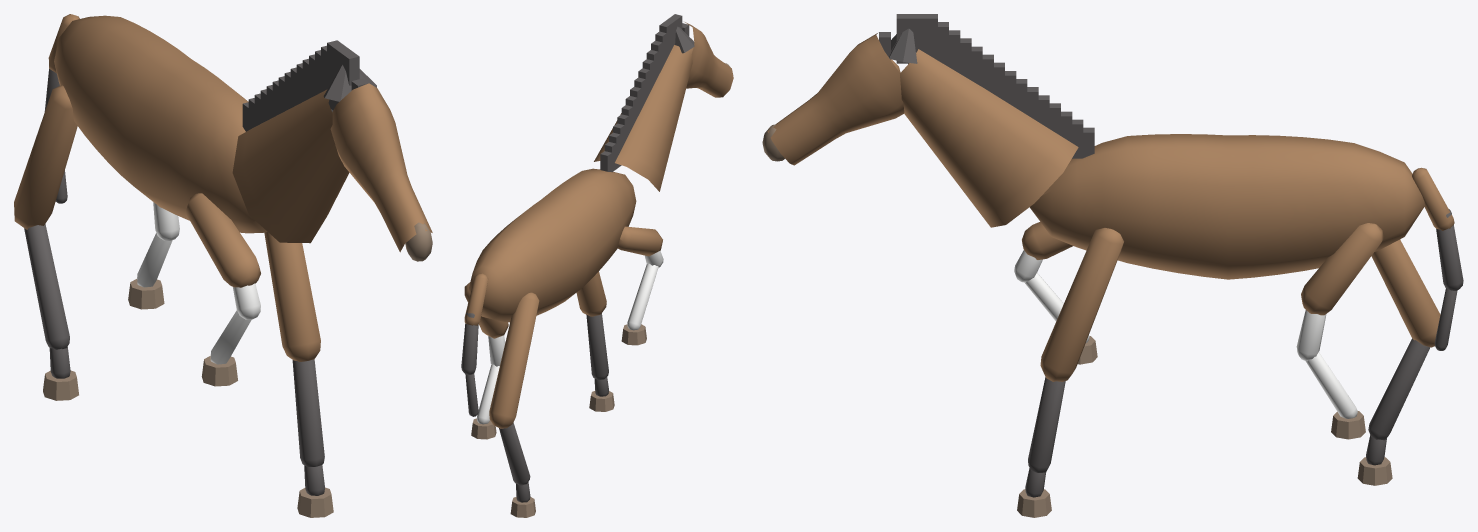
File: riding-horse-trotting-bay.glb
3 renders of one model, left to right at view 1: azimuth 30°, elevation 25°; view 2: azimuth 150°, elevation 25°; view 3: azimuth 270°, elevation 25°, orthographic. The views are drawn at different scales.
Visible parts, largest first — view 1: horse-trotting; view 2: horse-trotting; view 3: horse-trotting.
Part boxes in pixels (x1,y1,x2,y2): horse-trotting: [14, 14, 432, 517]; horse-trotting: [461, 14, 733, 517]; horse-trotting: [762, 14, 1463, 517].
Size of the model in its own units: 0.4689 by 2.17 by 2.89.
